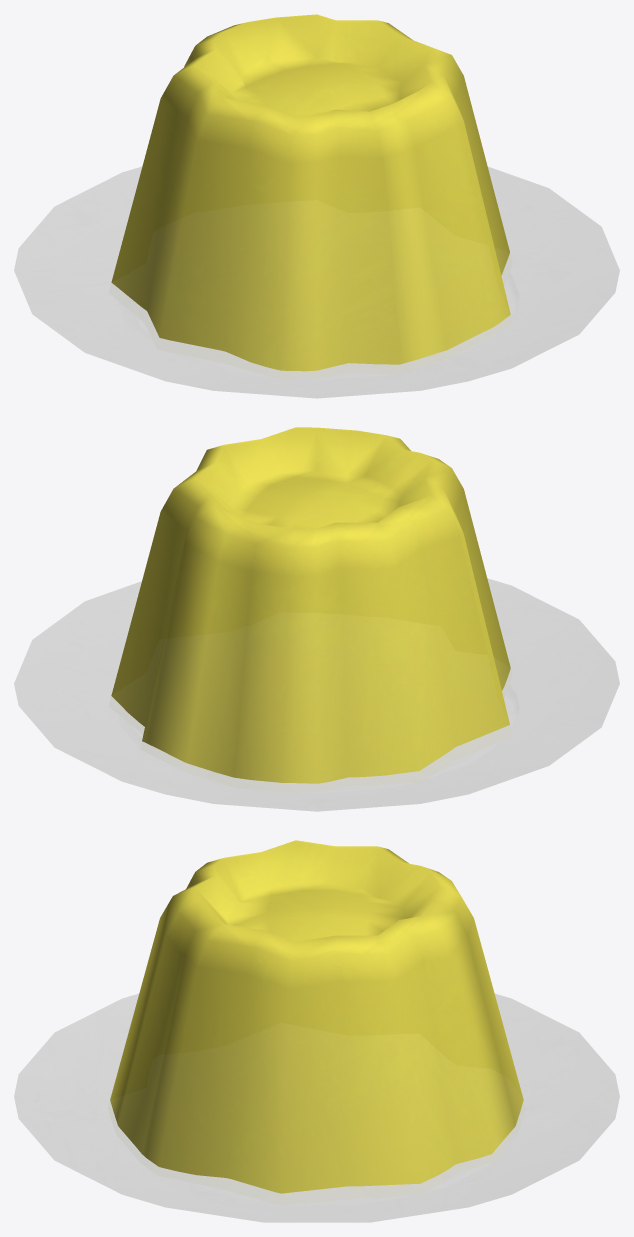
File: jelly.fbx
3 renders of one model, top to bottom at view 1: azimuth 30°, elevation 25°; view 2: azimuth 150°, elevation 25°; view 3: azimuth 270°, elevation 25°, orthographic.
Parts seen in each view (by area): view 1: polySurface2, polySurface1; view 2: polySurface2, polySurface1; view 3: polySurface2, polySurface1.
Part boxes in pixels (x1,y1,x2,y2): polySurface2: [111, 14, 510, 371]; polySurface1: [14, 166, 619, 398]; polySurface2: [111, 427, 510, 783]; polySurface1: [14, 578, 619, 811]; polySurface2: [110, 840, 523, 1193]; polySurface1: [14, 993, 619, 1222].
Bounding box in the file's own units: 21.04 × 9.35 × 21.37.
